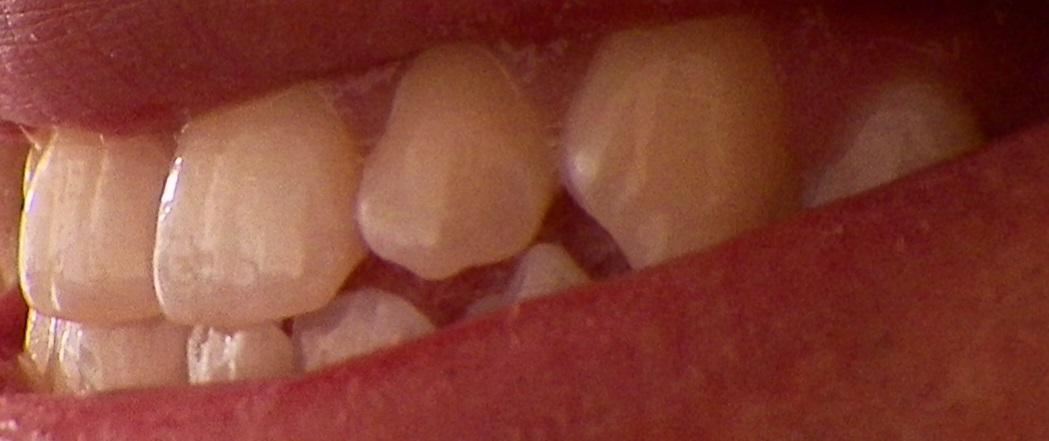boca: (24, 30, 977, 391)
